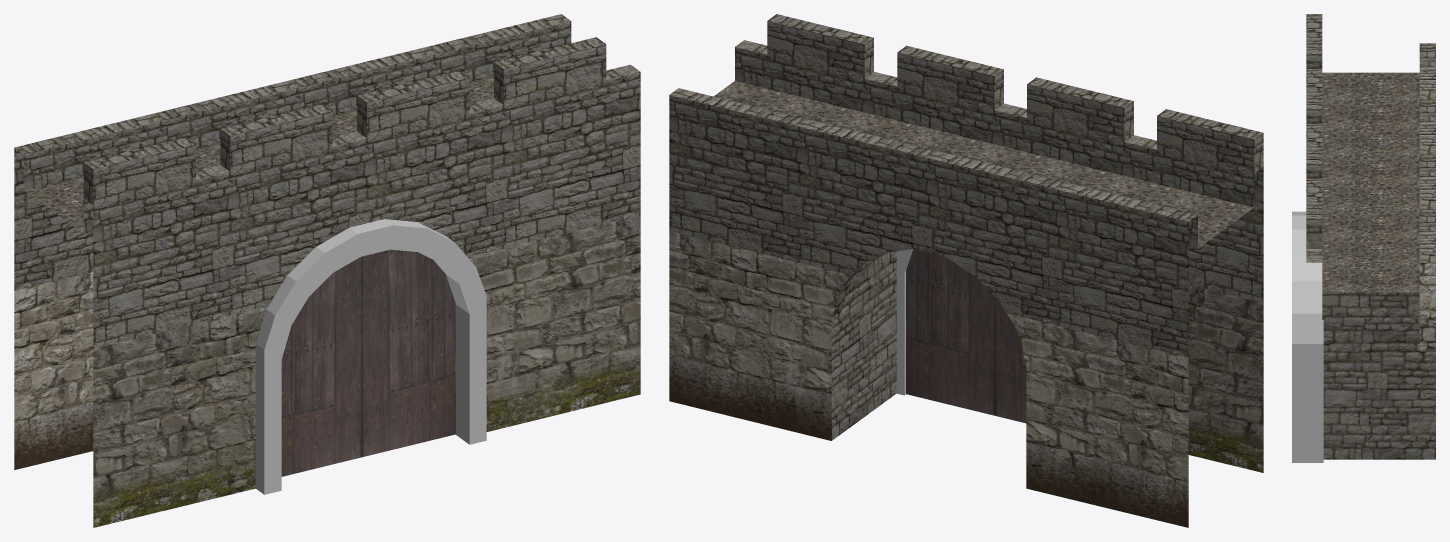
File: poorlords_wall_gate.FBX
3 views of the same model, side by side, from view 1: azimuth 30°, elevation 25°; view 2: azimuth 150°, elevation 25°; view 3: azimuth 270°, elevation 25° (orthographic). The views are drawn at different scales.
Visible parts, largest first — view 1: Poorlords_wall_gate_, Poorlords_wall_gate_doorright_, Poorlords_wall_gate_arc_, Poorlords_wall_gate_doorleft_; view 2: Poorlords_wall_gate_, Poorlords_wall_gate_doorright_, Poorlords_wall_gate_doorleft_, Poorlords_wall_gate_arc_; view 3: Poorlords_wall_gate_, Poorlords_wall_gate_arc_.
Boxes of the visible parts, x1,y1,x2,y2 form: Poorlords_wall_gate_: (14, 14, 640, 527); Poorlords_wall_gate_doorright_: (362, 249, 455, 457); Poorlords_wall_gate_arc_: (255, 219, 486, 494); Poorlords_wall_gate_doorleft_: (281, 256, 361, 476); Poorlords_wall_gate_: (669, 14, 1263, 527); Poorlords_wall_gate_doorright_: (906, 249, 995, 415); Poorlords_wall_gate_doorleft_: (995, 297, 1026, 423); Poorlords_wall_gate_arc_: (896, 249, 912, 395); Poorlords_wall_gate_: (1306, 14, 1435, 459); Poorlords_wall_gate_arc_: (1292, 211, 1323, 462).
Size of the model in its own units: 1024 by 642 by 284.
